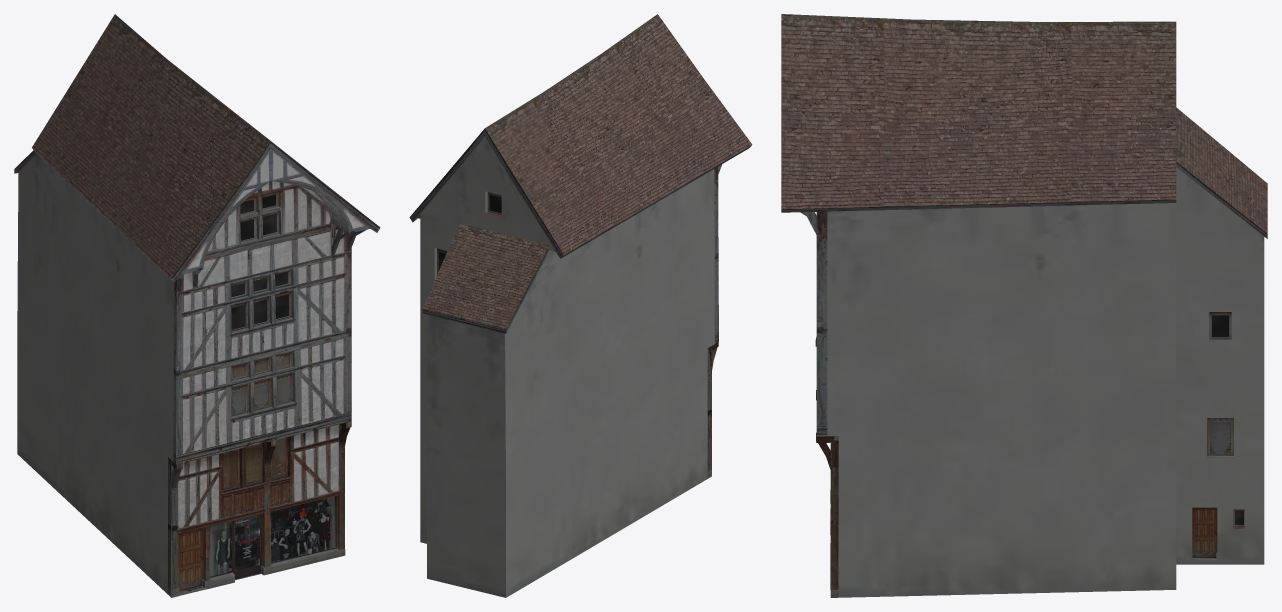
File: troyes6.glb
3 renders of one model, left to right at view 1: azimuth 30°, elevation 25°; view 2: azimuth 150°, elevation 25°; view 3: azimuth 270°, elevation 25°, orthographic. The views are drawn at different scales.
Visible parts, largest first — view 1: 13_13_0; view 2: 13_13_0; view 3: 13_13_0.
Part boxes in pixels (x1,y1,x2,y2): 13_13_0: (14,14,380,597); 13_13_0: (409,14,752,597); 13_13_0: (781,14,1267,597).
Bounding box in the file's own units: 7.08 × 14.62 × 12.16.
Materials: 1 (1 with a texture image).
